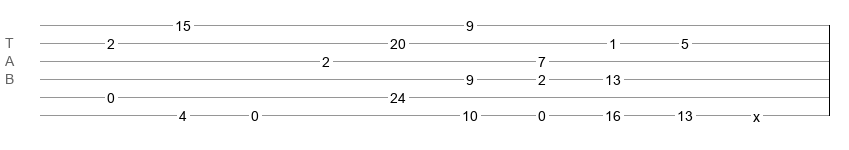0: (107, 90, 115, 100), (251, 108, 259, 118), (538, 108, 546, 118)
1: (609, 36, 617, 46)
10: (462, 108, 478, 118)
13: (605, 72, 621, 82), (677, 108, 693, 118)
15: (175, 18, 191, 28)
16: (605, 108, 621, 118)
2: (107, 36, 115, 46), (322, 54, 330, 64), (538, 72, 546, 82)
20: (390, 36, 406, 46)
24: (390, 90, 406, 100)
4: (179, 108, 187, 118)
5: (681, 36, 689, 46)
7: (538, 54, 546, 64)
9: (466, 72, 474, 82), (466, 18, 474, 28)
x: (753, 109, 760, 117)
